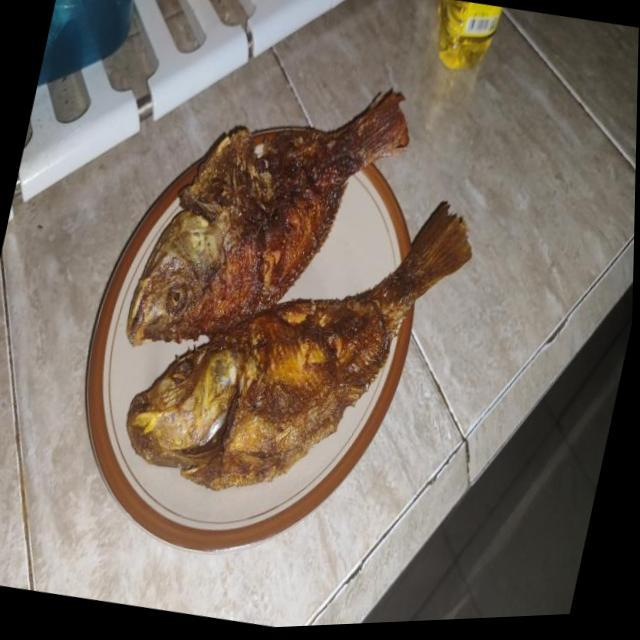ikan_mujair: (127, 202, 471, 490), (128, 90, 409, 344)
